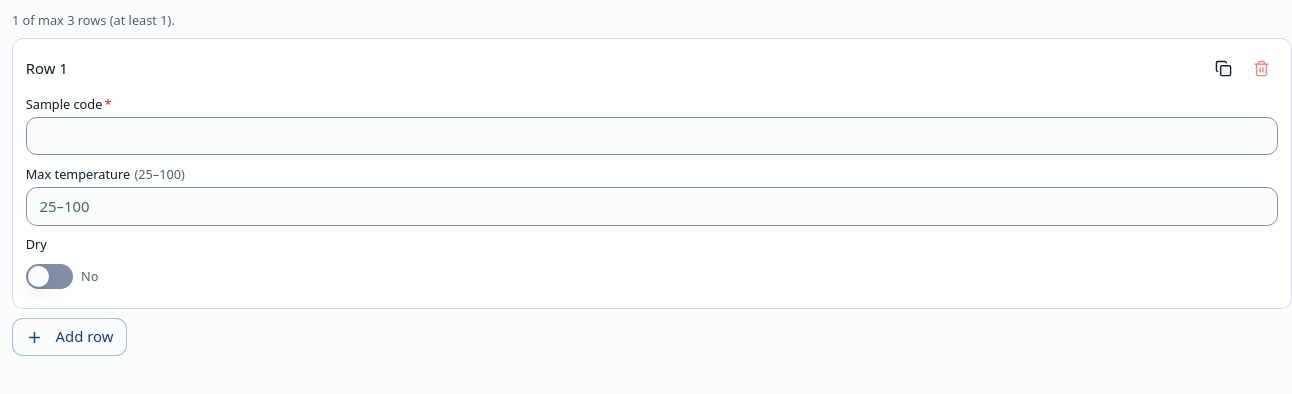
Scenario: TypedTableInput › corrects a number over the upper limit and shows the Max N allowed hint
Type "150" into the field named "Extra rows, row 1: Max temperature" at (652, 206), box [26,187,1278,226]
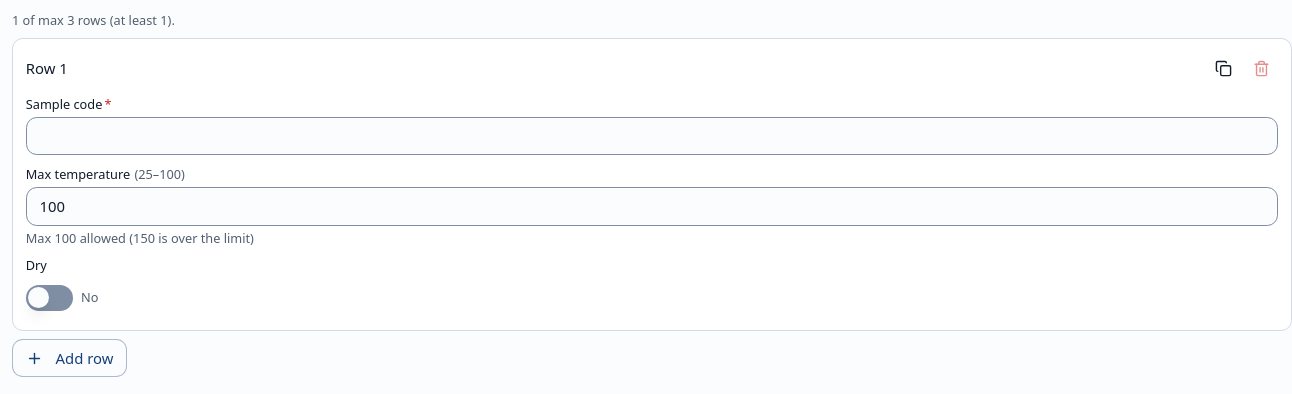
Now the field named "Extra rows, row 1: Max temperature" holds "100"
Now the text "Max 100 allowed (150 is over the limit)" is shown, box [26,229,254,247]
Replace the text in the field named "Extra rows, row 1: Max temperature" with "10" at (652, 206), box [26,187,1278,226]
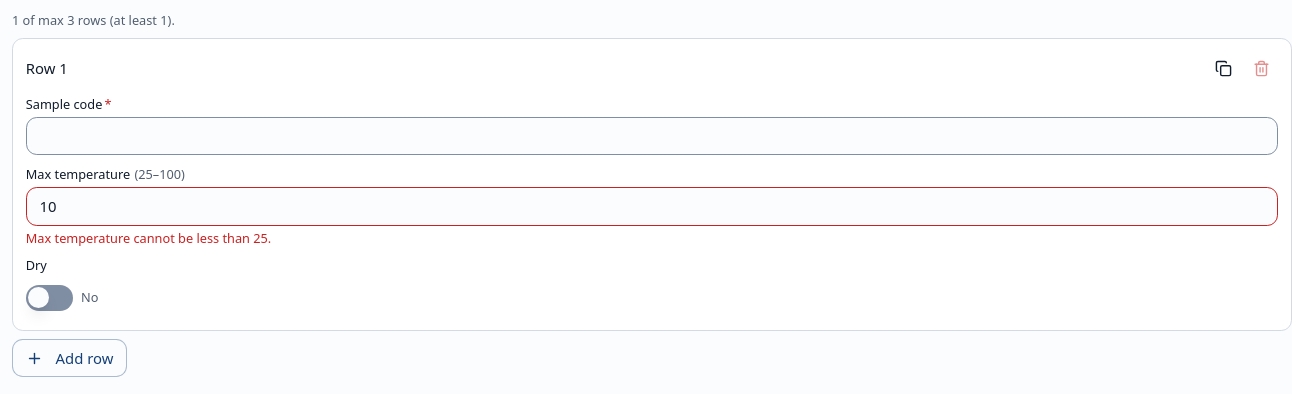
Leave the field named "Extra rows, row 1: Max temperature", box [26,187,1278,226]
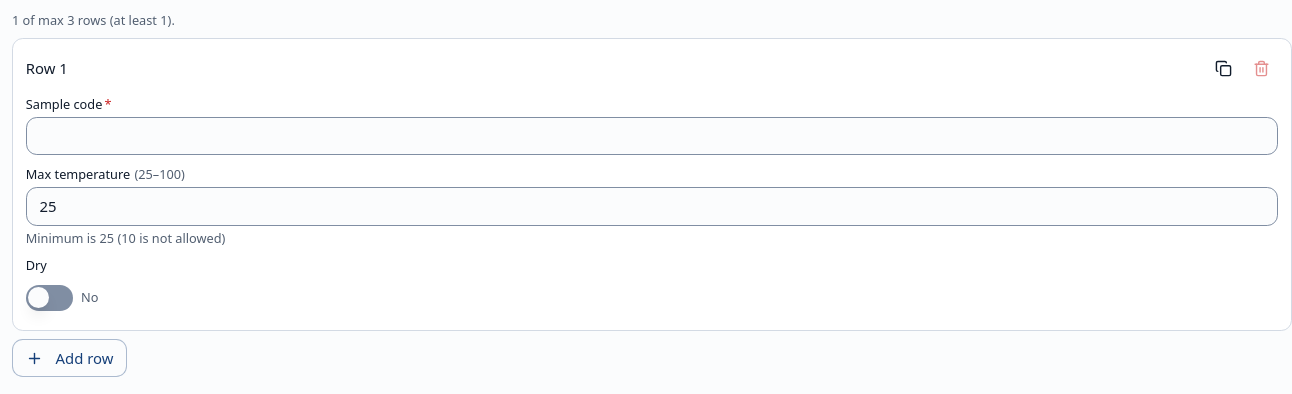
Now the field named "Extra rows, row 1: Max temperature" holds "25", box [26,187,1278,226]
